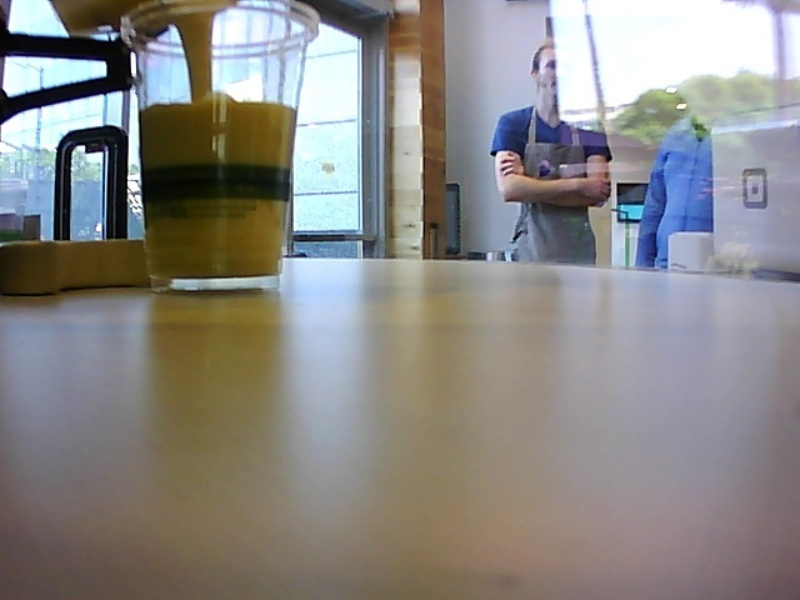cup: (117, 1, 323, 289)
limit: (136, 92, 300, 119)
